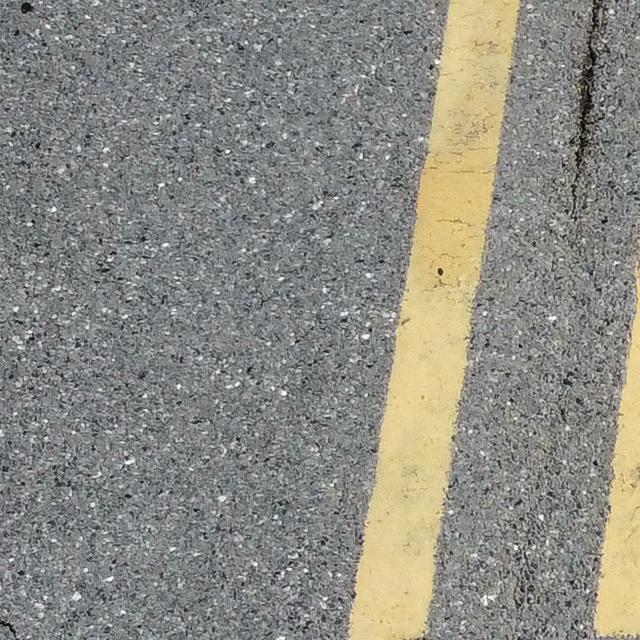LongitudinalCrack: (566, 1, 605, 211)
